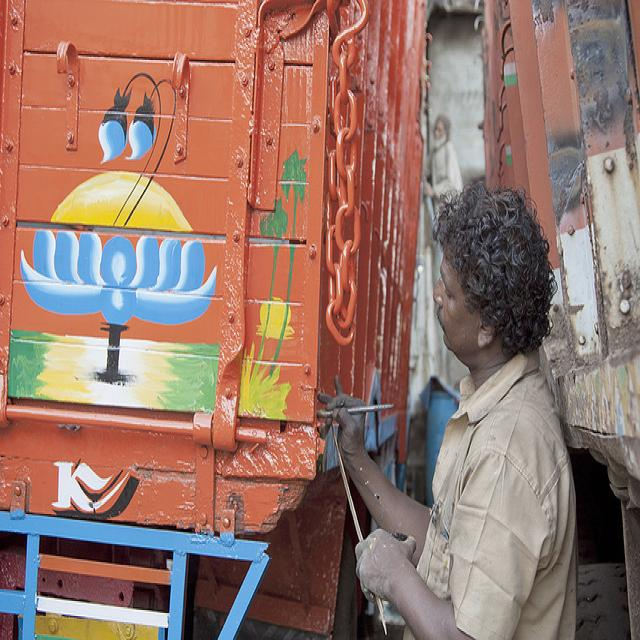Vehicle: (0, 0, 430, 631)
